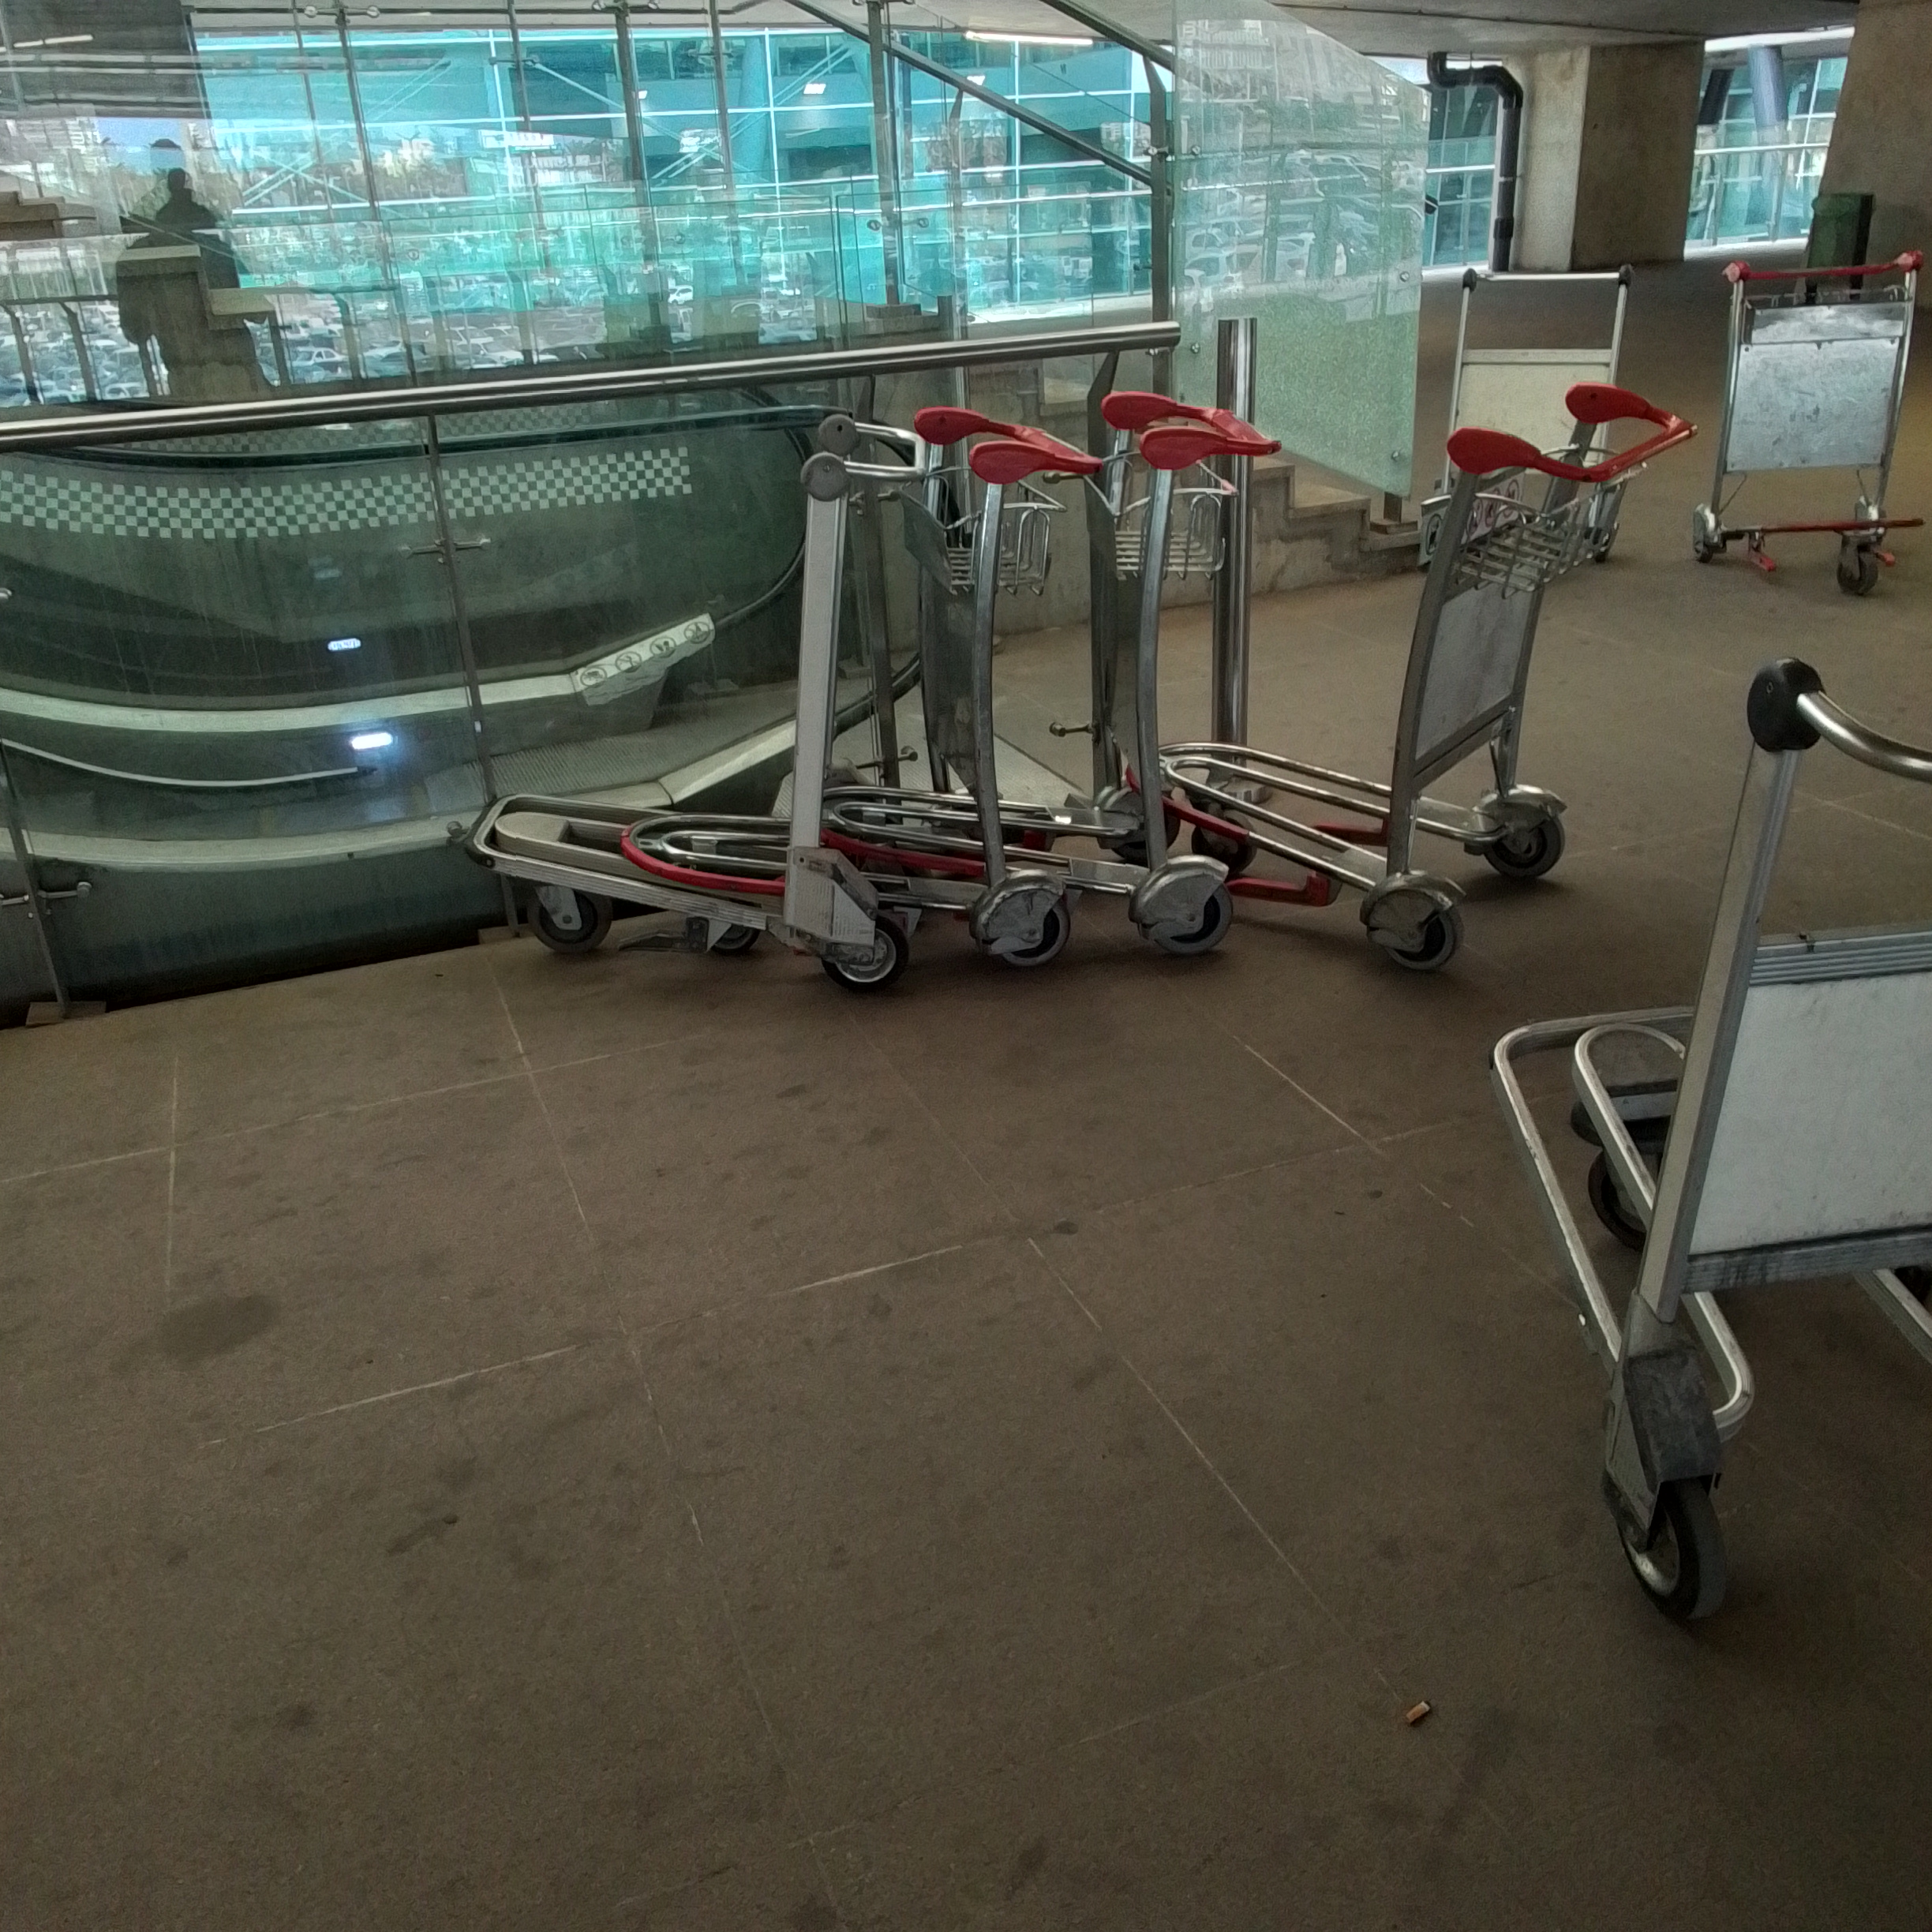airport-trolley: (1486, 665, 1932, 1617), (1189, 384, 1698, 964), (479, 419, 943, 985), (1046, 377, 1270, 977), (938, 384, 1106, 1016), (1698, 267, 1932, 584), (1435, 276, 1638, 579)
